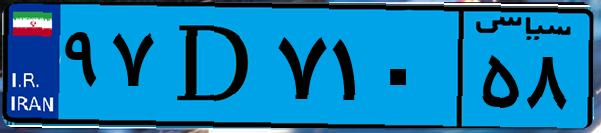0: (385, 28, 445, 110)
1: (330, 28, 385, 110)
5: (475, 38, 525, 113)
7: (270, 28, 330, 110), (110, 28, 158, 98)
8: (525, 38, 570, 115)
9: (57, 26, 110, 100)
D: (158, 12, 270, 120)
